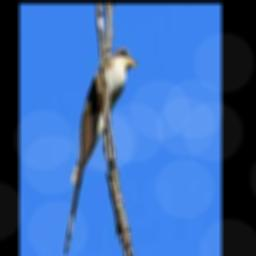Cuckoo: (64, 44, 137, 254)
